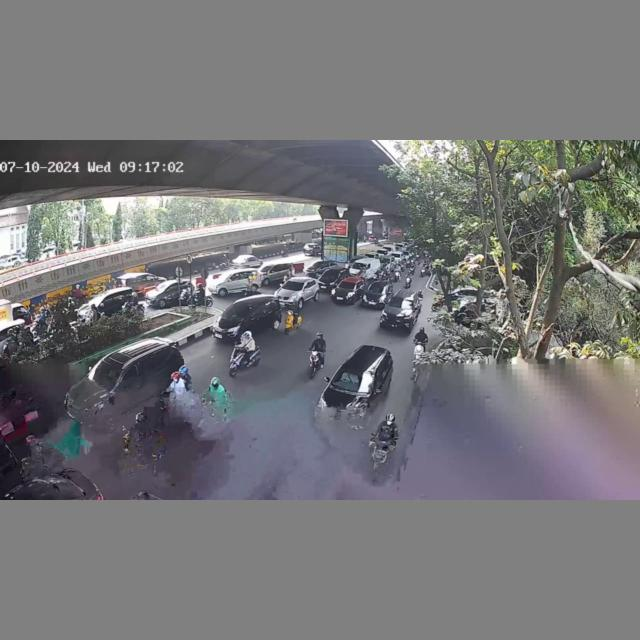windshield: (332, 367, 373, 393), (222, 304, 249, 321), (389, 296, 414, 310), (280, 281, 304, 291), (368, 284, 388, 294), (338, 280, 357, 290)
